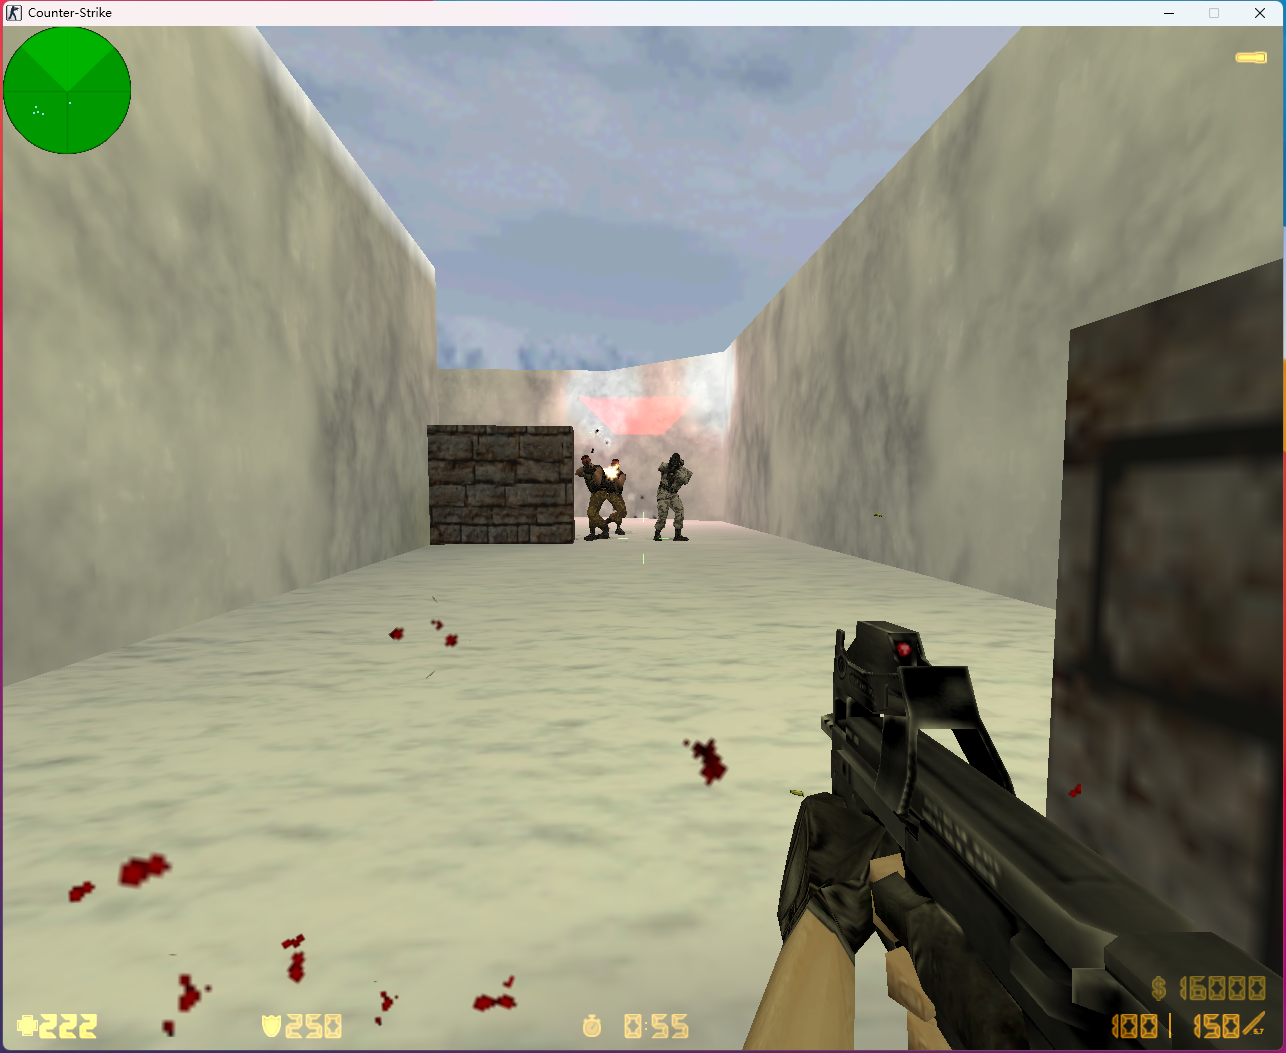T: (654, 454, 689, 543), (574, 456, 609, 540), (605, 456, 628, 535)
